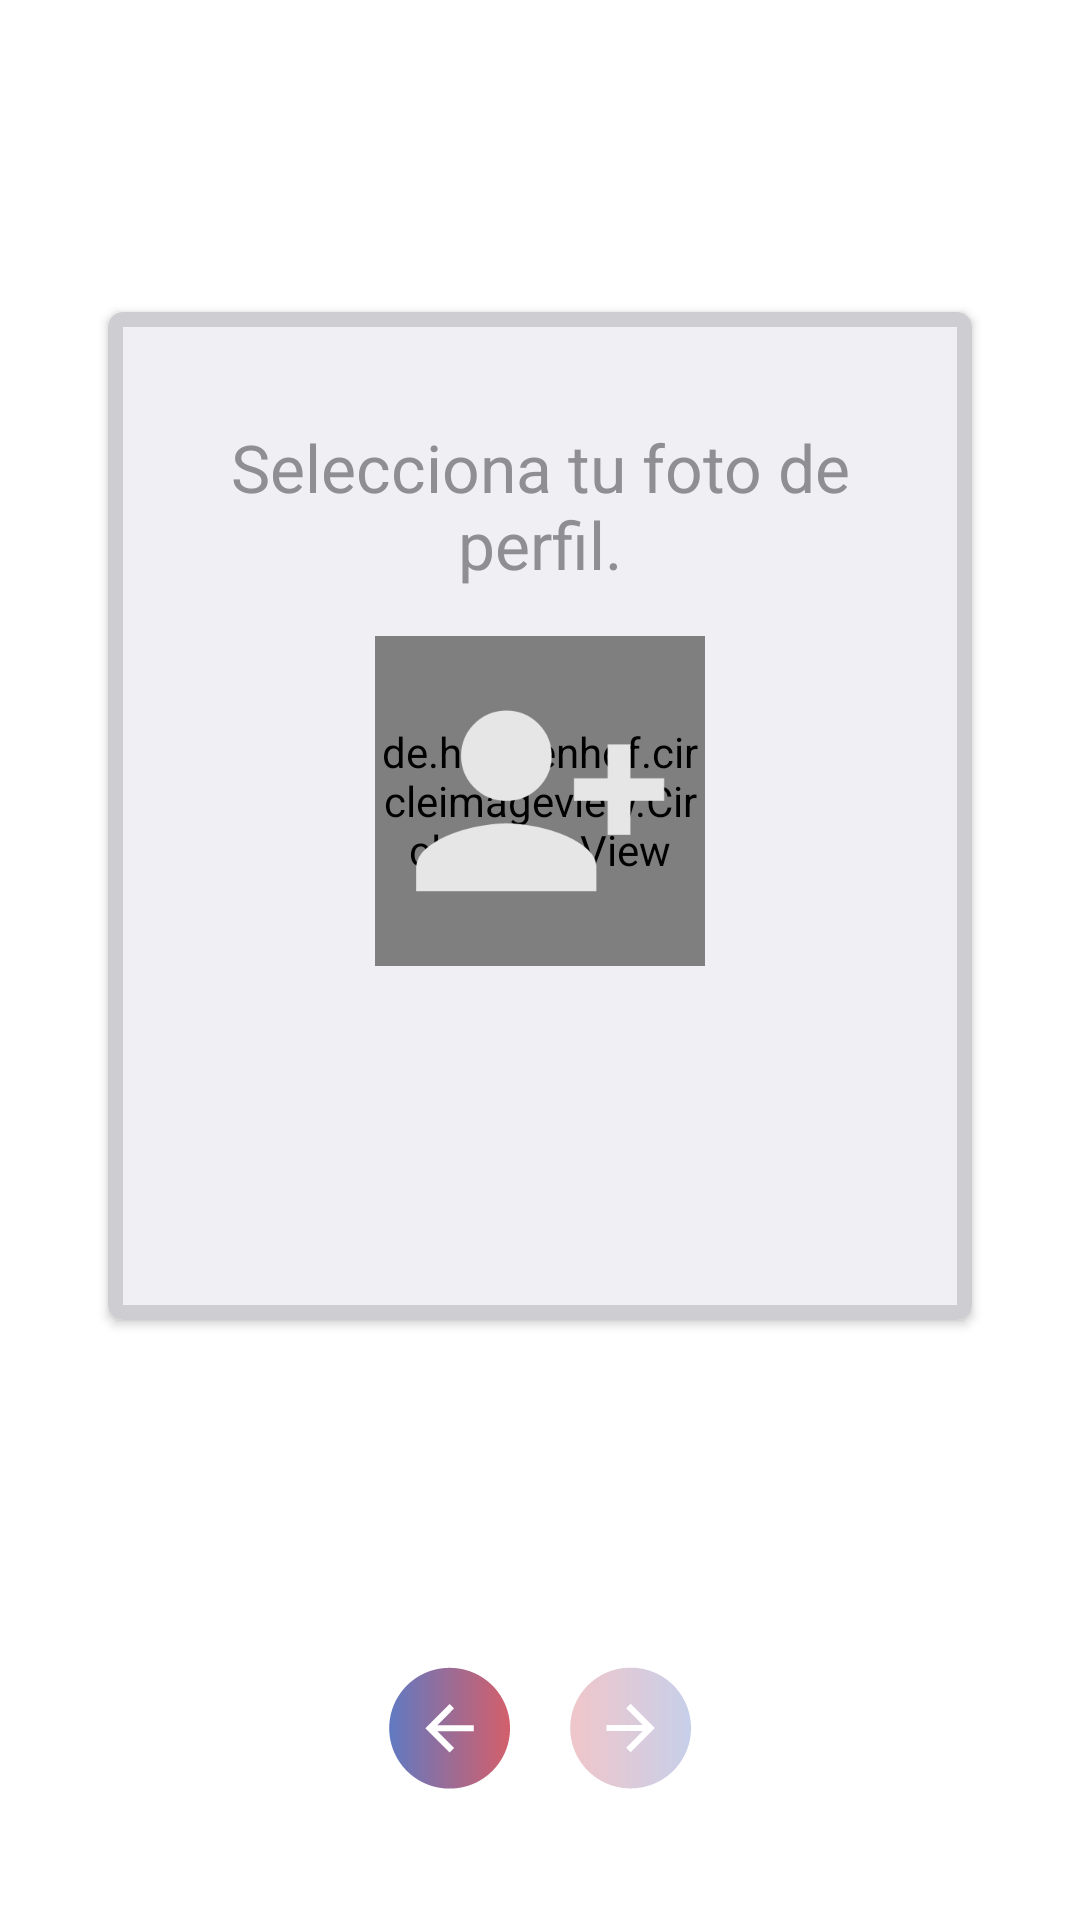

Point at icon controls on the screen. Image size 1080 x 1920, points as point (x, y).
back shining: point (449, 1728)
next: point (630, 1728)
